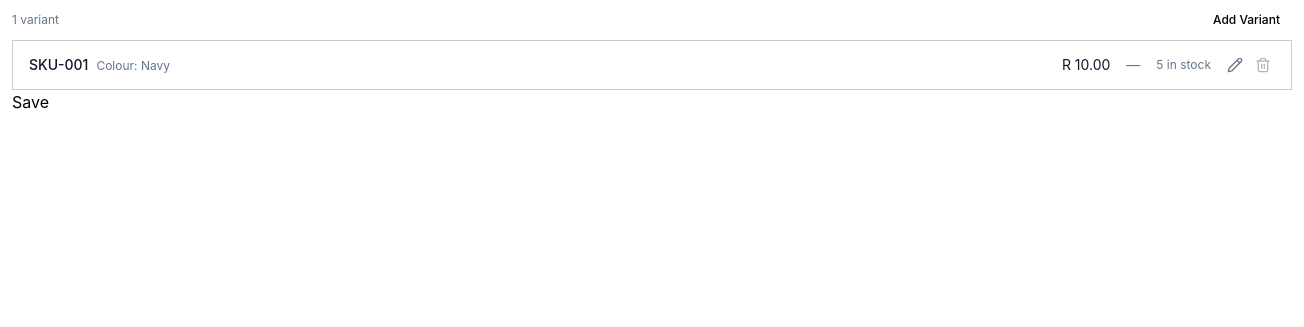
Test: VariantFields — attribute editor › removes an attribute row, and its quick-add chip reappears
Click the button with test id "edit-variant-0": [1235, 65] box left=1223, top=53, right=1247, bottom=77
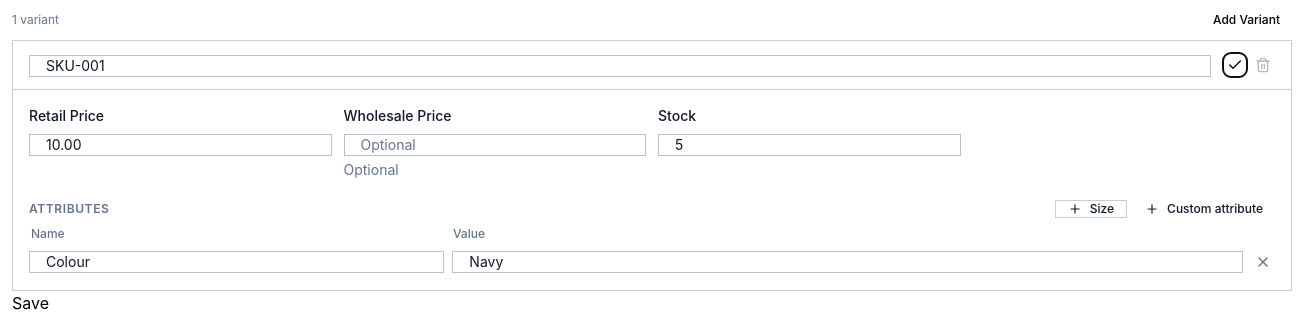
Check: the element with test id "variant-0-attribute-0" is shown, box left=29, top=250, right=1275, bottom=274
Click the button with test id "remove-attribute-0-0": [1263, 262] box left=1251, top=250, right=1275, bottom=274
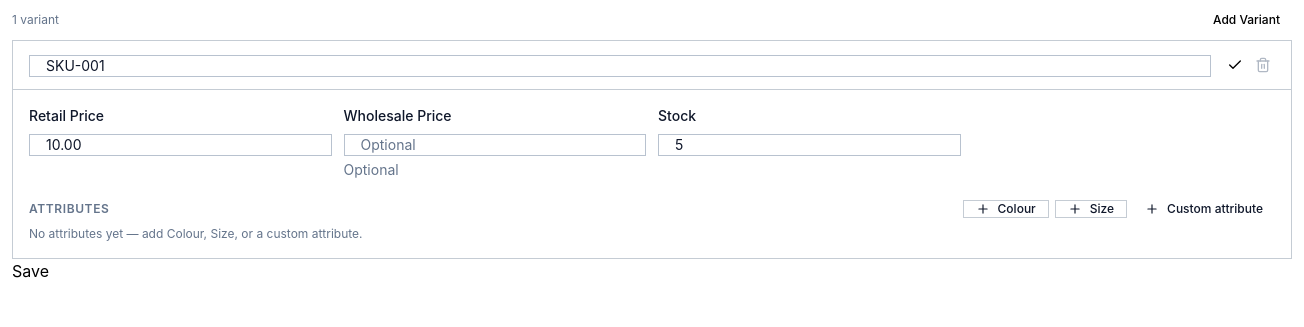
Check: the element with test id "variant-0-attribute-0" is gone
Check: the button with test id "add-attribute-colour-0" is shown, box left=963, top=200, right=1049, bottom=218
